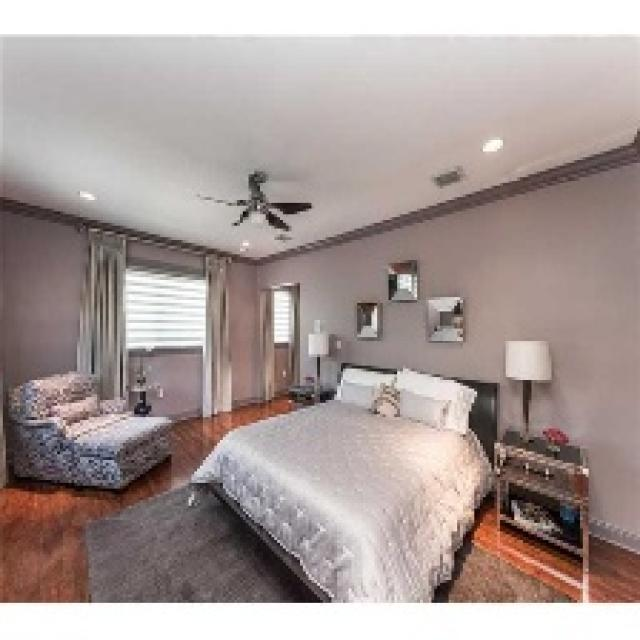Bed: (186, 360, 497, 600)
